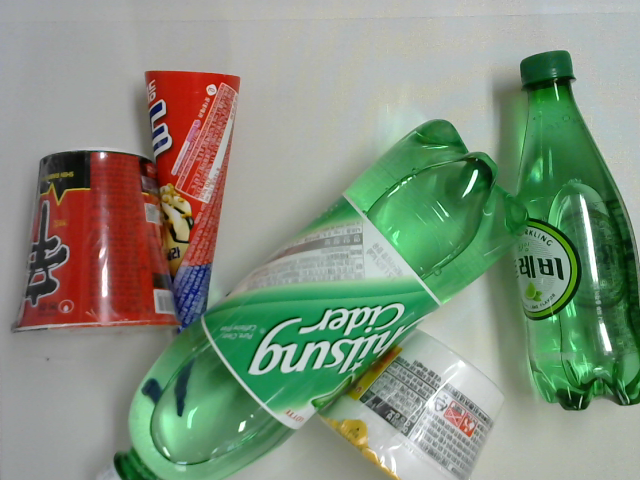Chilseong_Cider_1.5L: (98, 119, 528, 480)
Hejangmini: (315, 330, 505, 480)
Sinramen_small: (11, 150, 181, 336)
Treviraim_500ml: (515, 50, 640, 411)
World_Cone_Banila: (145, 70, 242, 333)
